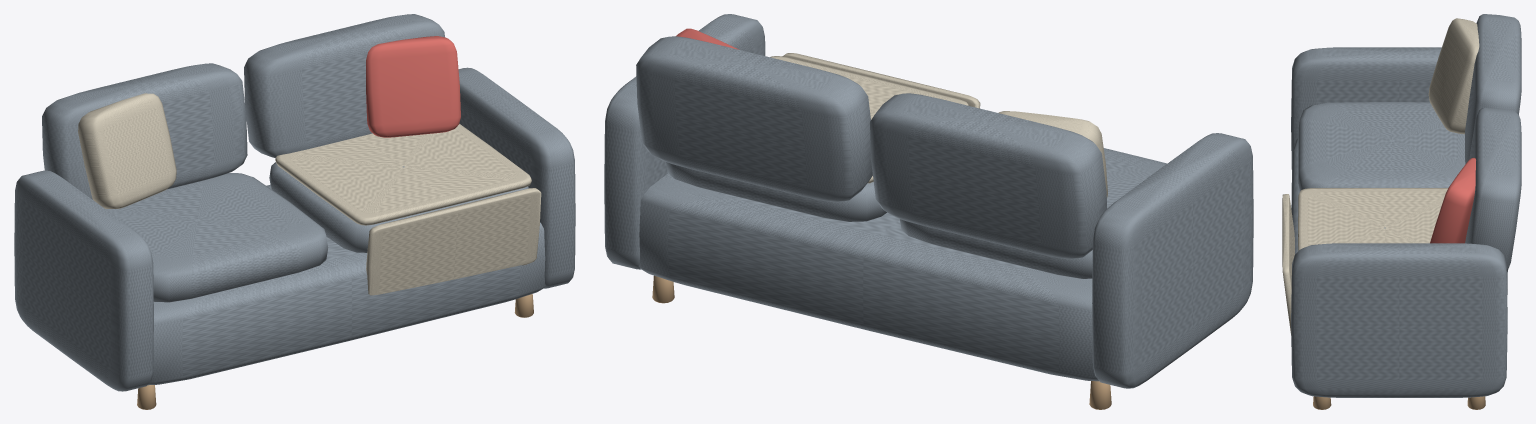
Rendered from pets-and-companions-hd-sofa-dbffce73__28181.glb.
3 renders of one model, left to right at view 1: azimuth 30°, elevation 25°; view 2: azimuth 150°, elevation 25°; view 3: azimuth 270°, elevation 25°, orthographic. The views are drawn at different scales.
Visible parts, largest first — view 1: sofa; view 2: sofa; view 3: sofa.
Boxes of the visible parts, box(x1,y1,x2,y2) form: sofa: box(14, 14, 575, 409); sofa: box(604, 14, 1253, 409); sofa: box(1282, 14, 1521, 409).
Size of the model in its own units: 2.08 by 1.02 by 0.9899.
4 materials, 2 textured.
